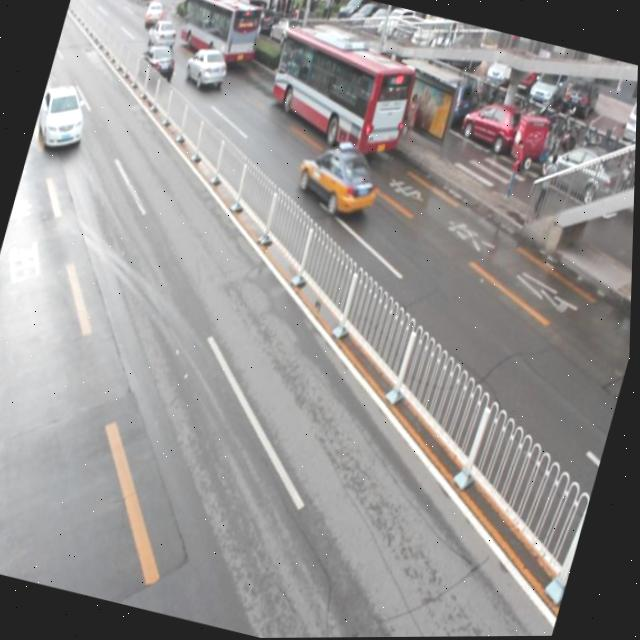car: (290, 134, 387, 224), (31, 77, 96, 154), (181, 42, 231, 93), (134, 39, 181, 88)
van: (260, 23, 421, 161), (172, 0, 266, 65)
